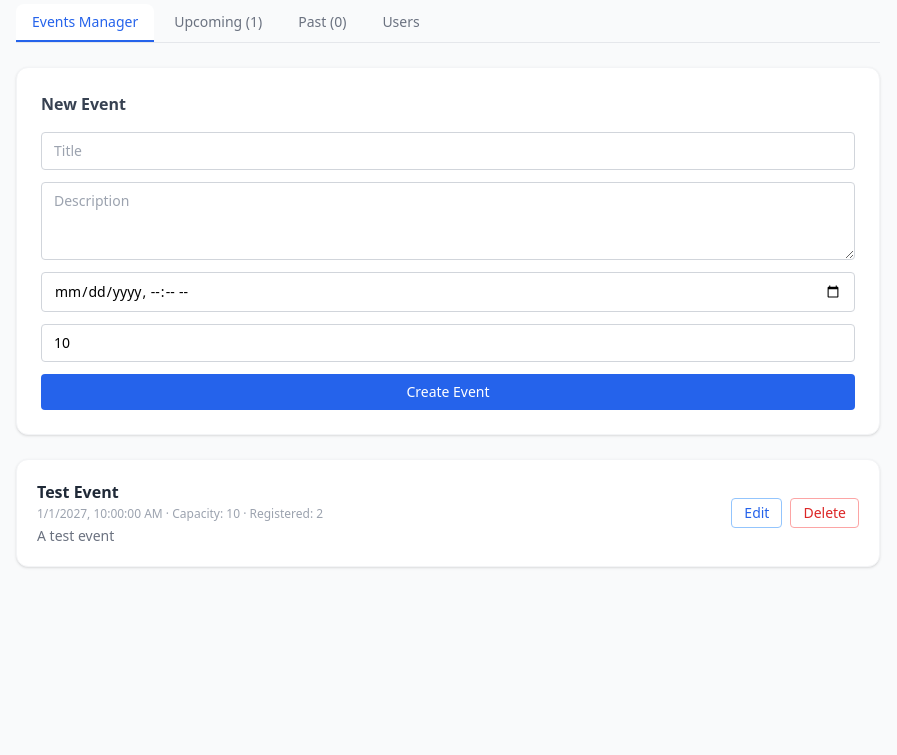
Scenario: AdminPage › clicking Edit shows pre-filled form
Click the button "Edit".
click(757, 513)  # box [731,498,782,528]
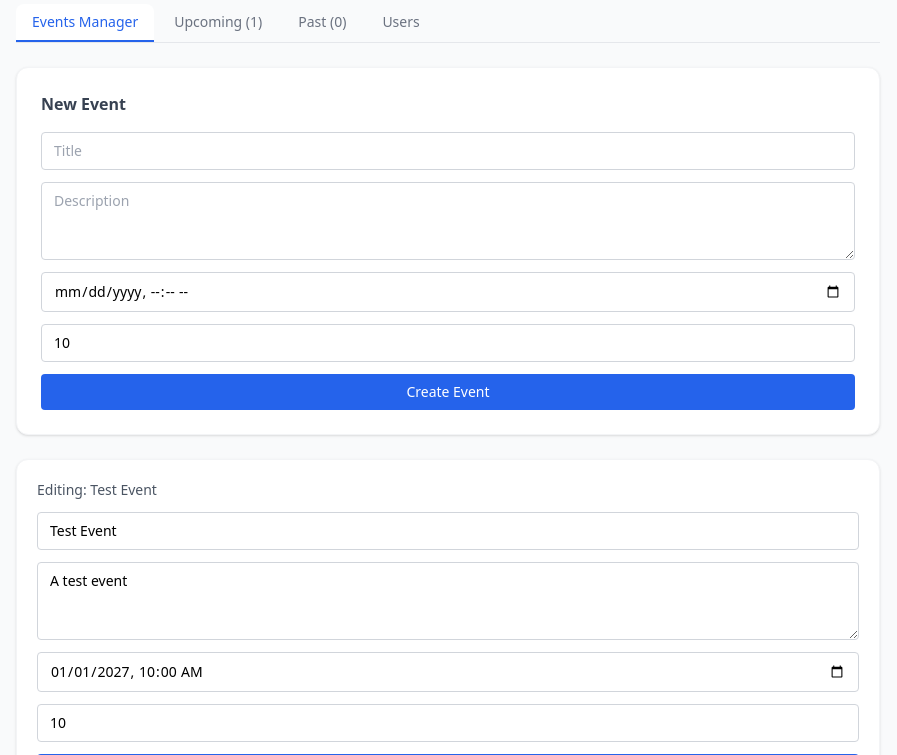
Now the 2nd field showing "Test Event" is shown, box [37,512,859,550]
